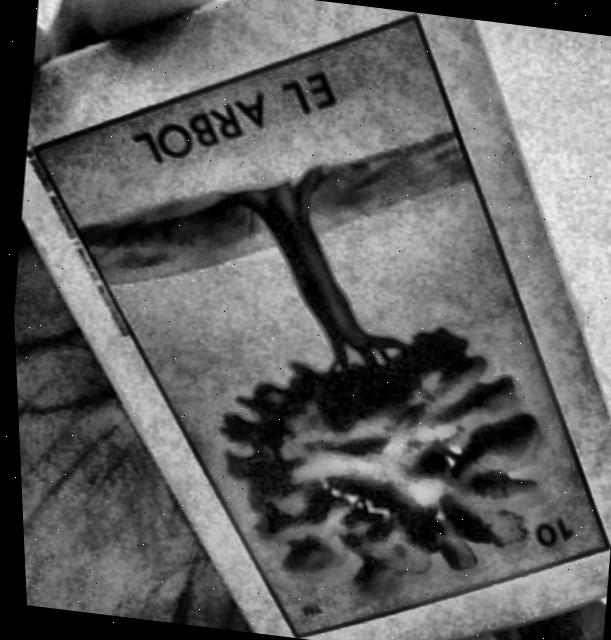El Arbol: (35, 11, 600, 637)
